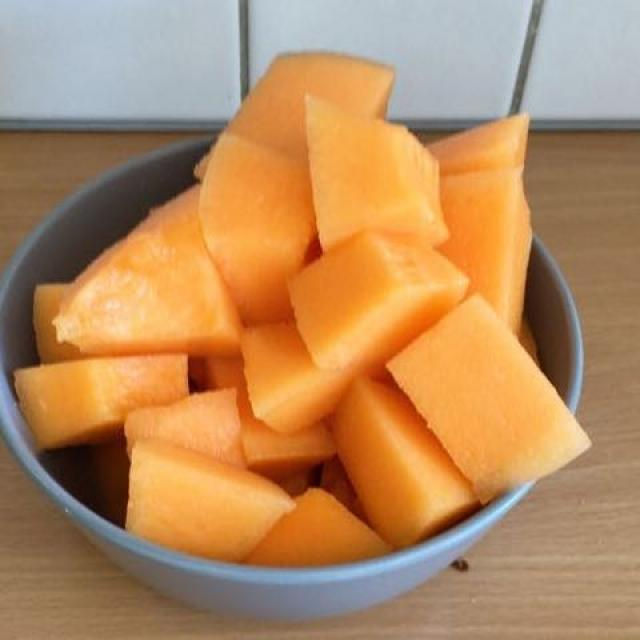melon: (22, 55, 571, 550)
